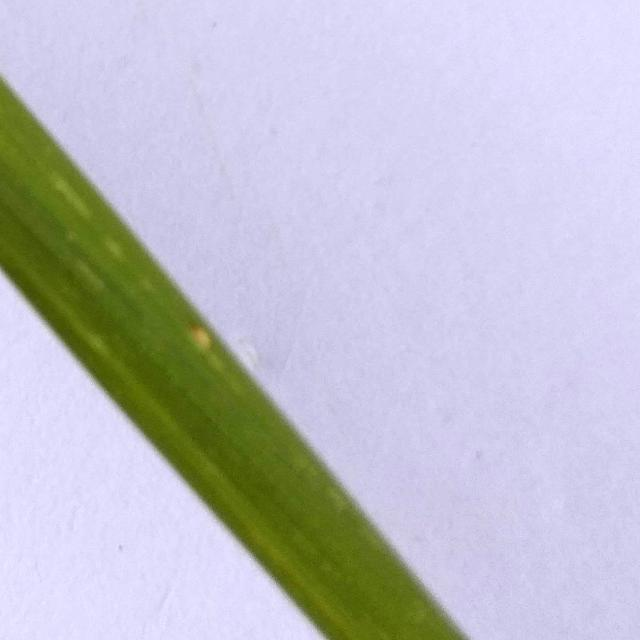Blast: (190, 323, 217, 353)
